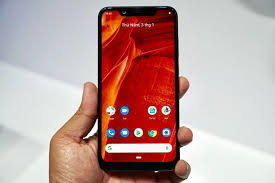nokia: (94, 7, 183, 175)
